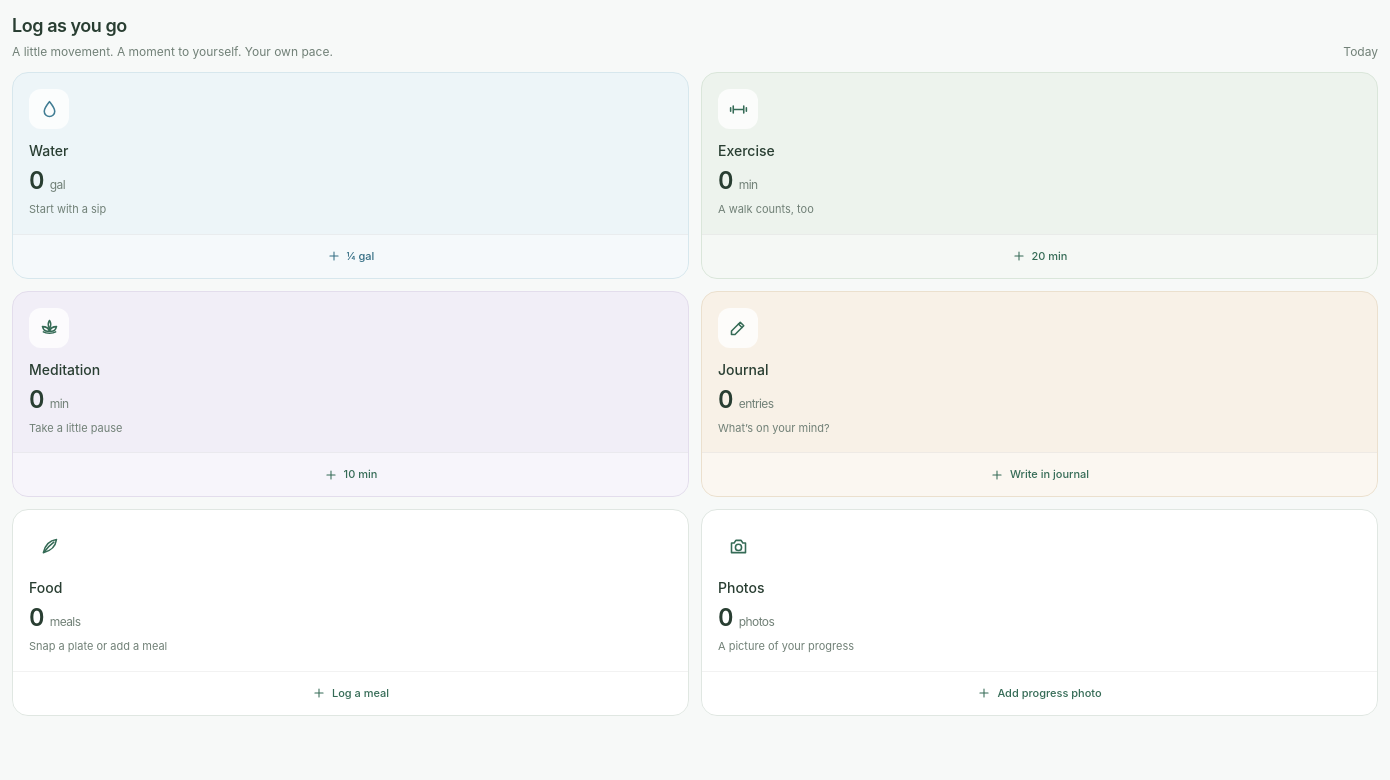
Test: one-tap water retries retain their identity and an undo updates the displayed total
Click the button with aria-label "Add ¼ gal of water" at (350, 256), box 13,234 -> 688,278
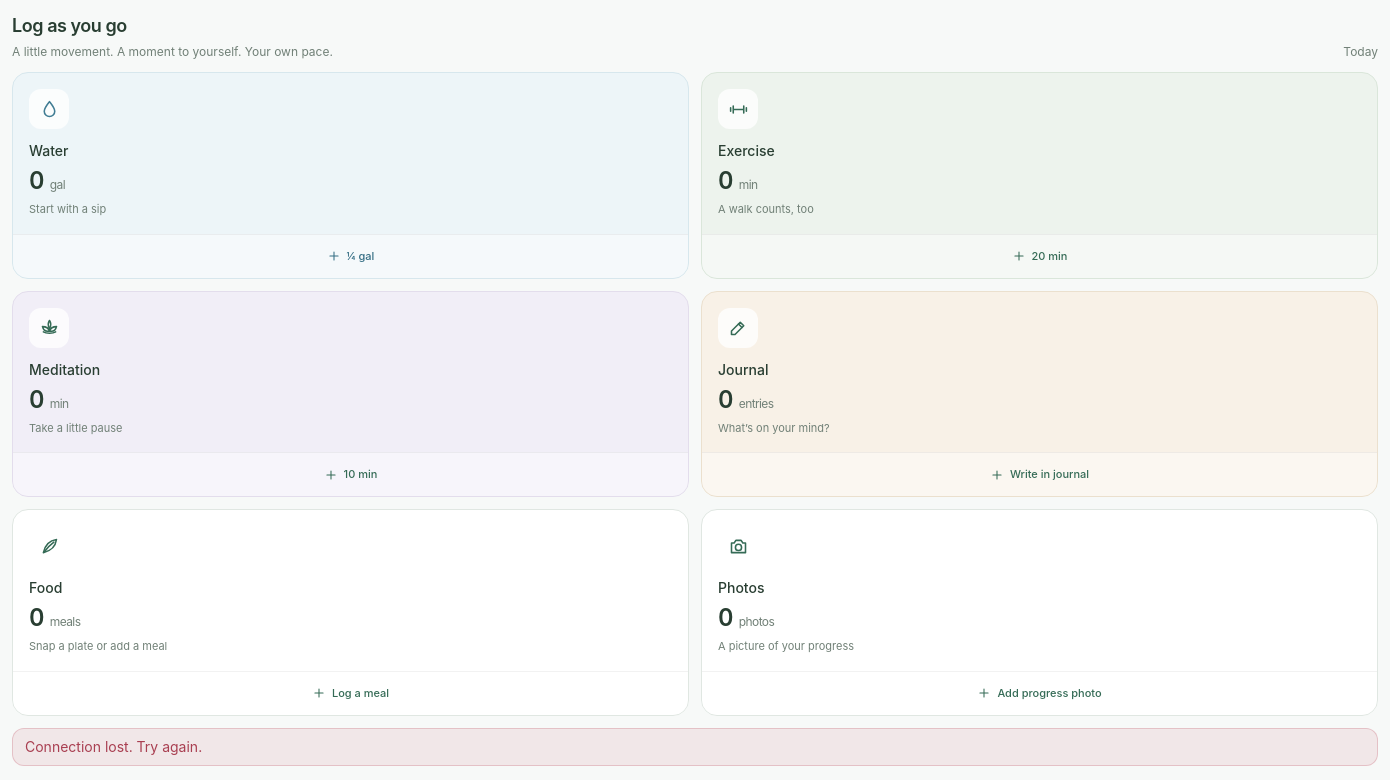
Now the text "Connection lost. Try again." is shown, box 12,728 -> 1378,766
Click the button with aria-label "Add ¼ gal of water" at (350, 256), box 13,234 -> 688,278
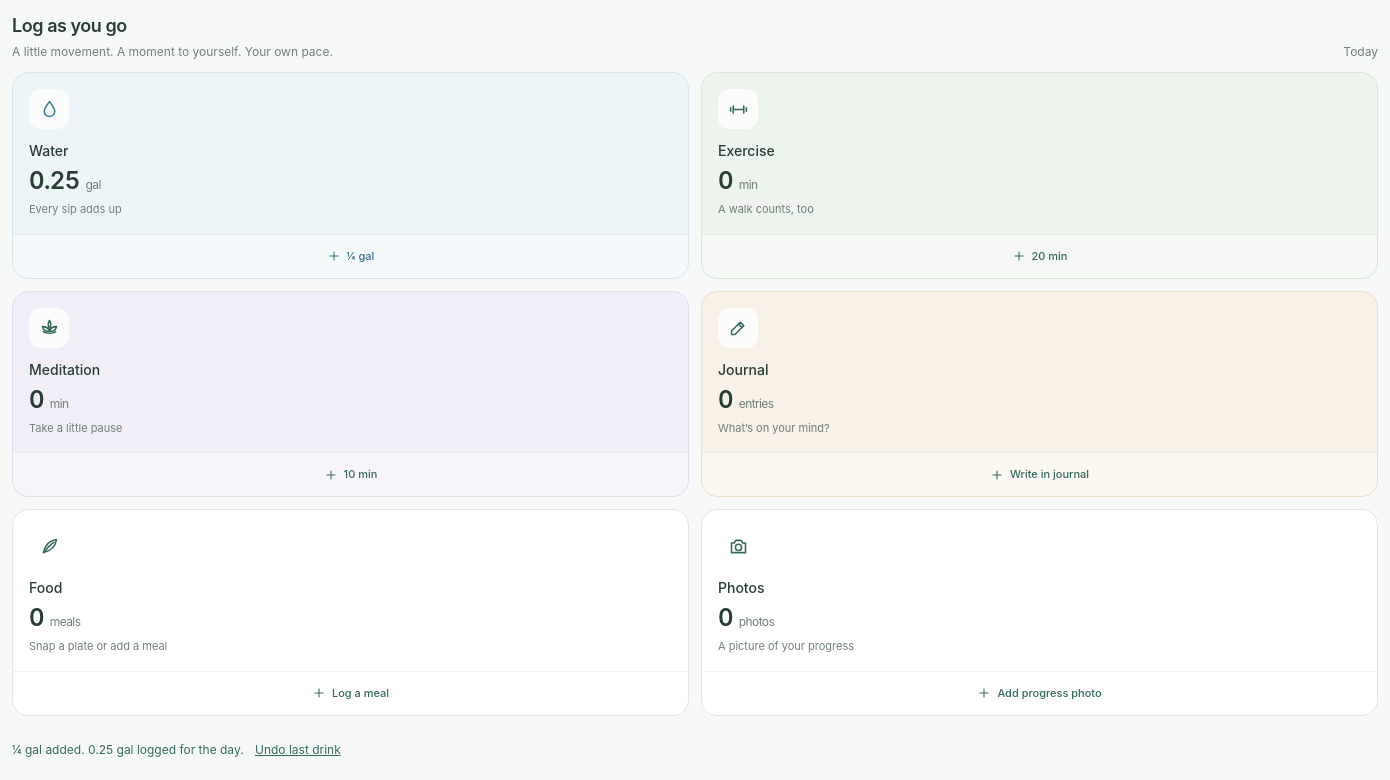
Now the message "¼ gal added. 0.25 gal logged for the day. Undo last drink" is shown, box 12,728 -> 341,772
Now the message shows "0.25 gal logged", box 12,742 -> 244,756
Click the button "Undo last drink" at (298, 750), box 255,728 -> 341,772
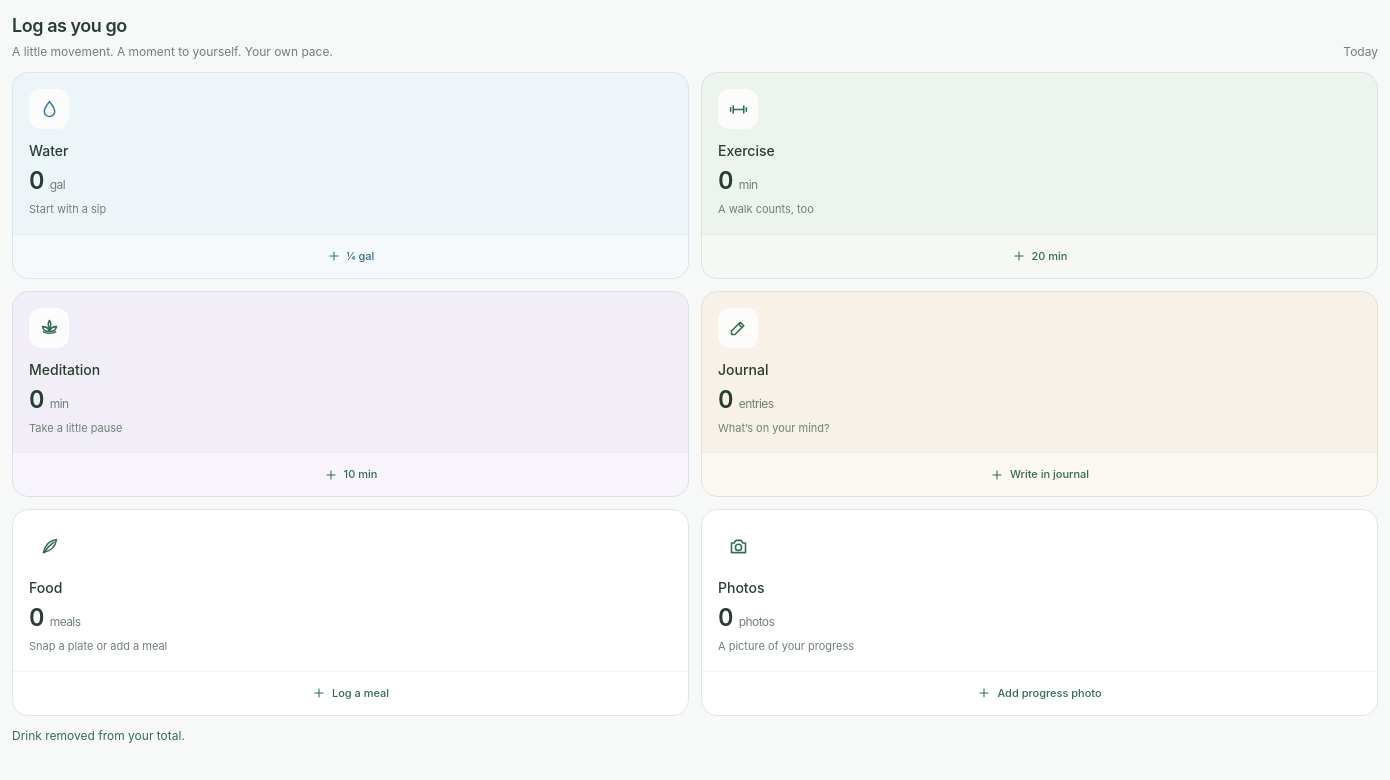
Now the text "Drink removed from your total." is shown, box 12,728 -> 185,742
